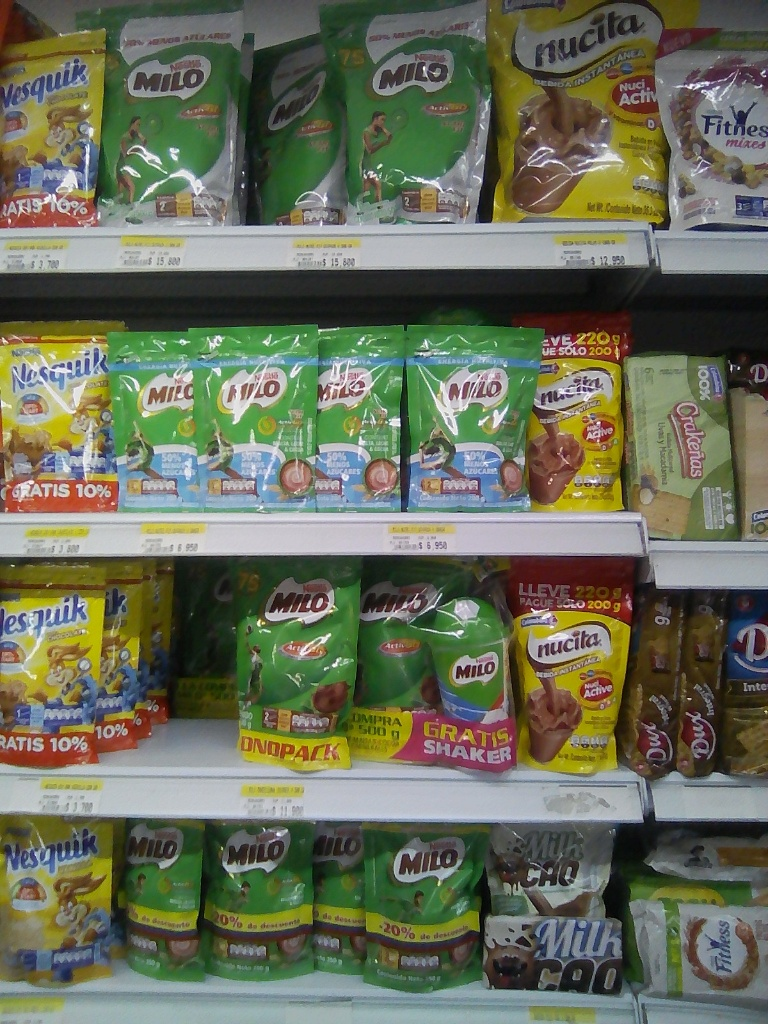COL0170203DYP25000: (117, 813, 208, 990)
COL0170203DYP50000: (224, 557, 360, 778)
COL0170205DYP20000: (111, 330, 192, 514)
COL0170205DYP50000: (231, 29, 369, 241)
COL0170306DYP20000: (1, 816, 117, 989)
